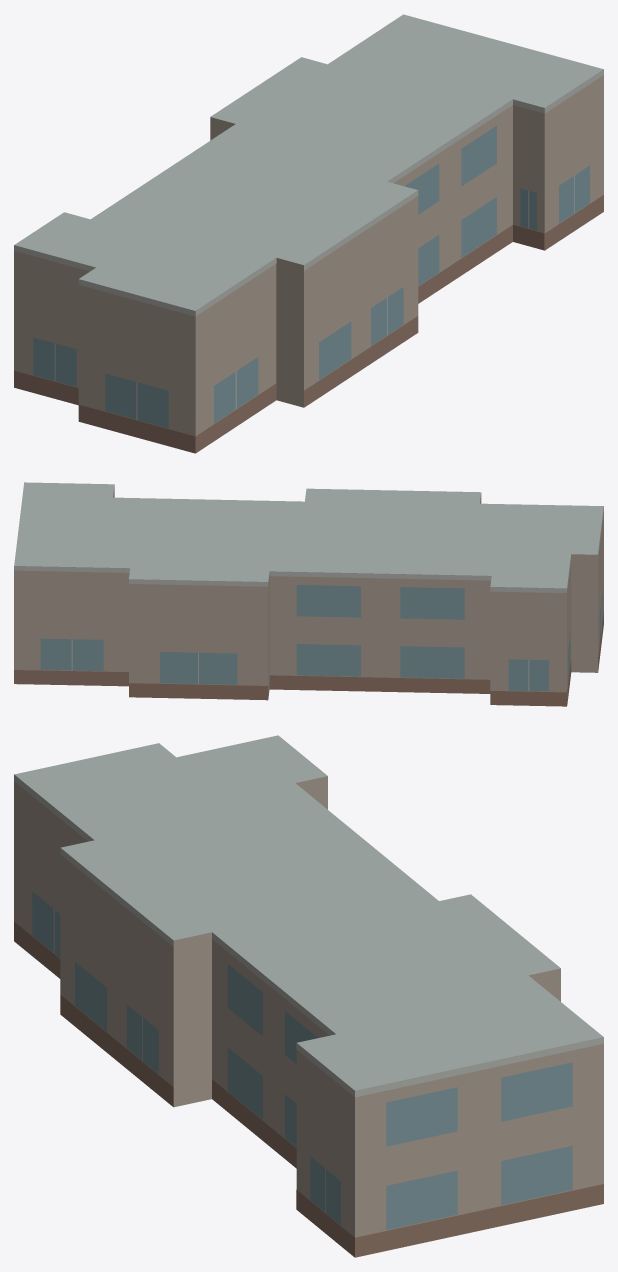
File: survey-upis-32830246.glb
3 renders of one model, top to bottom at view 1: azimuth 30°, elevation 25°; view 2: azimuth 150°, elevation 25°; view 3: azimuth 270°, elevation 25°, orthographic. The views are drawn at different scales.
Parts seen in each view (by area): view 1: survey-upis-32830246.tmp; view 2: survey-upis-32830246.tmp; view 3: survey-upis-32830246.tmp.
Boxes of the visible parts, left/top/right/bottom form: survey-upis-32830246.tmp: left=14, top=14, right=603, bottom=453; survey-upis-32830246.tmp: left=14, top=482, right=603, bottom=706; survey-upis-32830246.tmp: left=14, top=735, right=603, bottom=1257.
Size of the model in its own units: 27.89 by 6.1 by 19.55.
